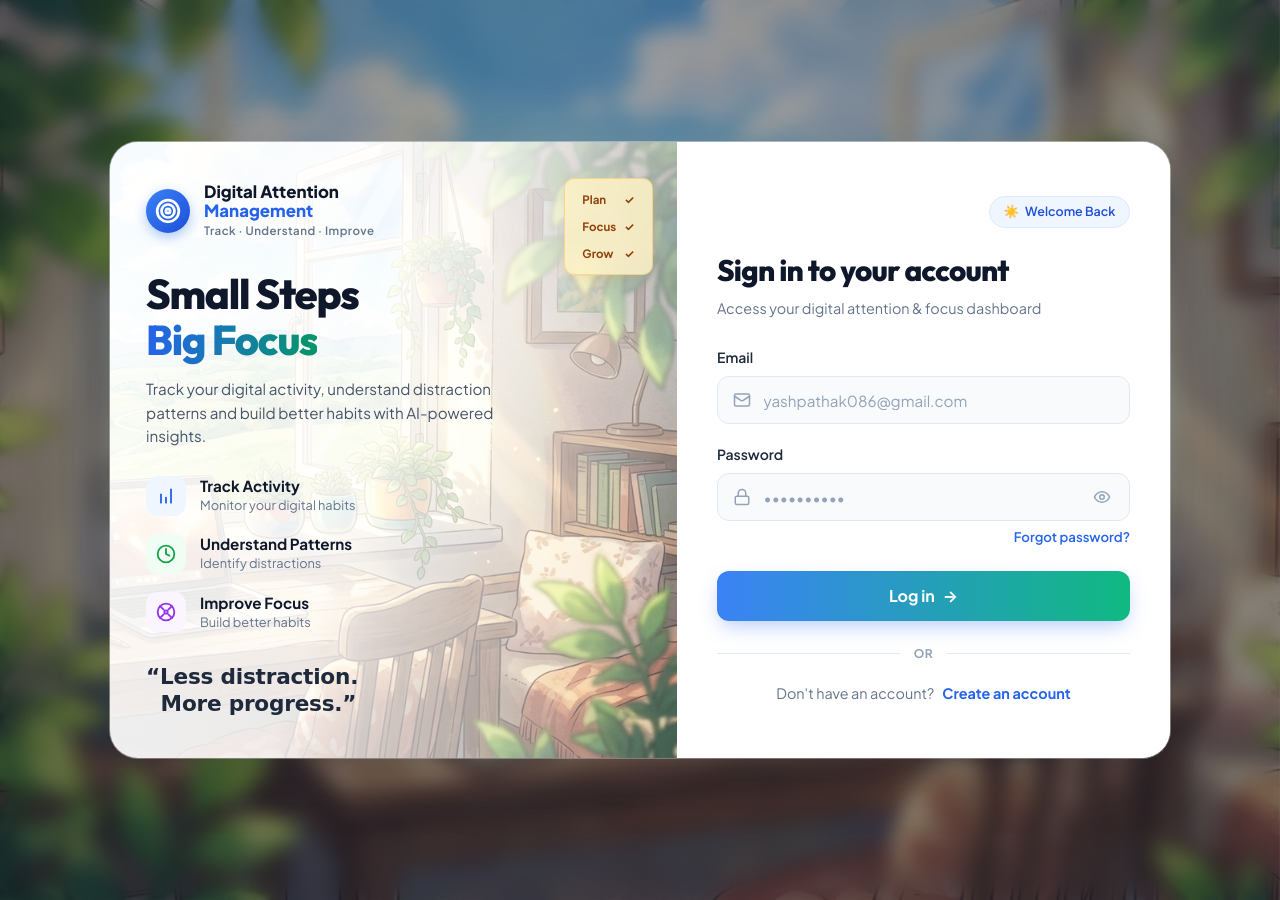
Test case: Auth Feature › login failure shows the generic message
Type "wrong@example.com" into the field labelled "Email" at (924, 400), box [717, 376, 1130, 424]
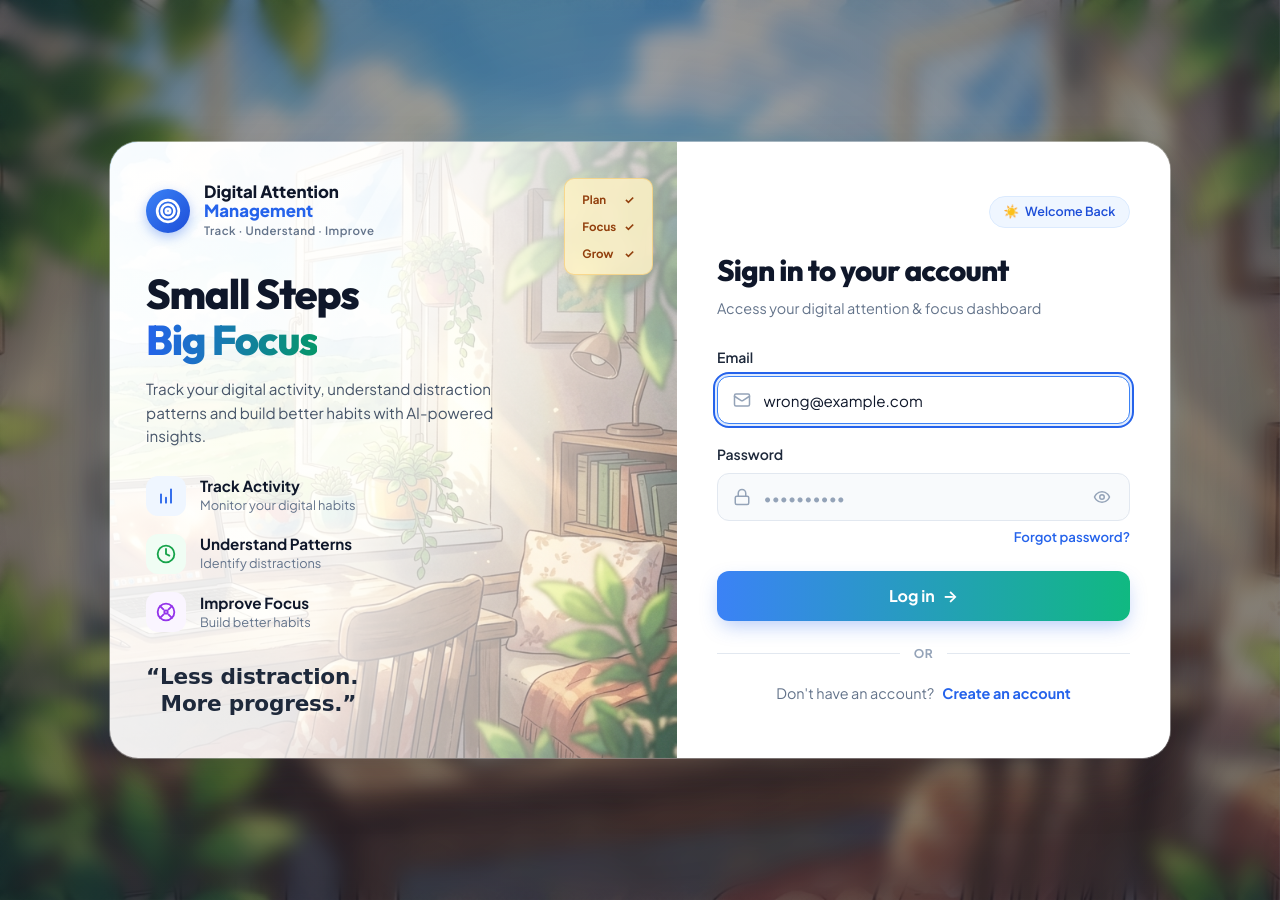
Type "WrongPassword123!" into the password field labelled "Password" at (924, 497), box [717, 473, 1130, 521]
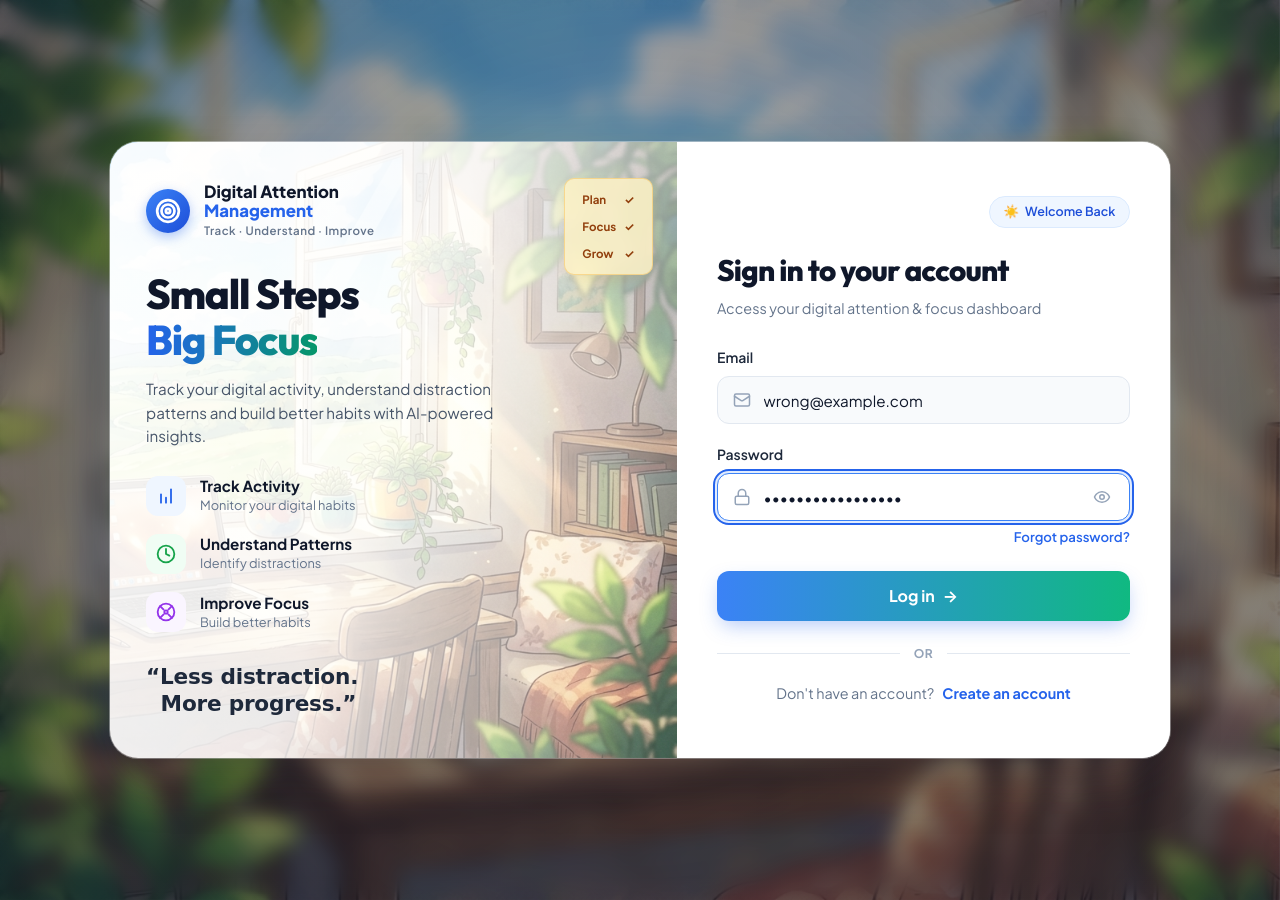
Click the button "Log in →" at (924, 596), box [717, 571, 1130, 621]
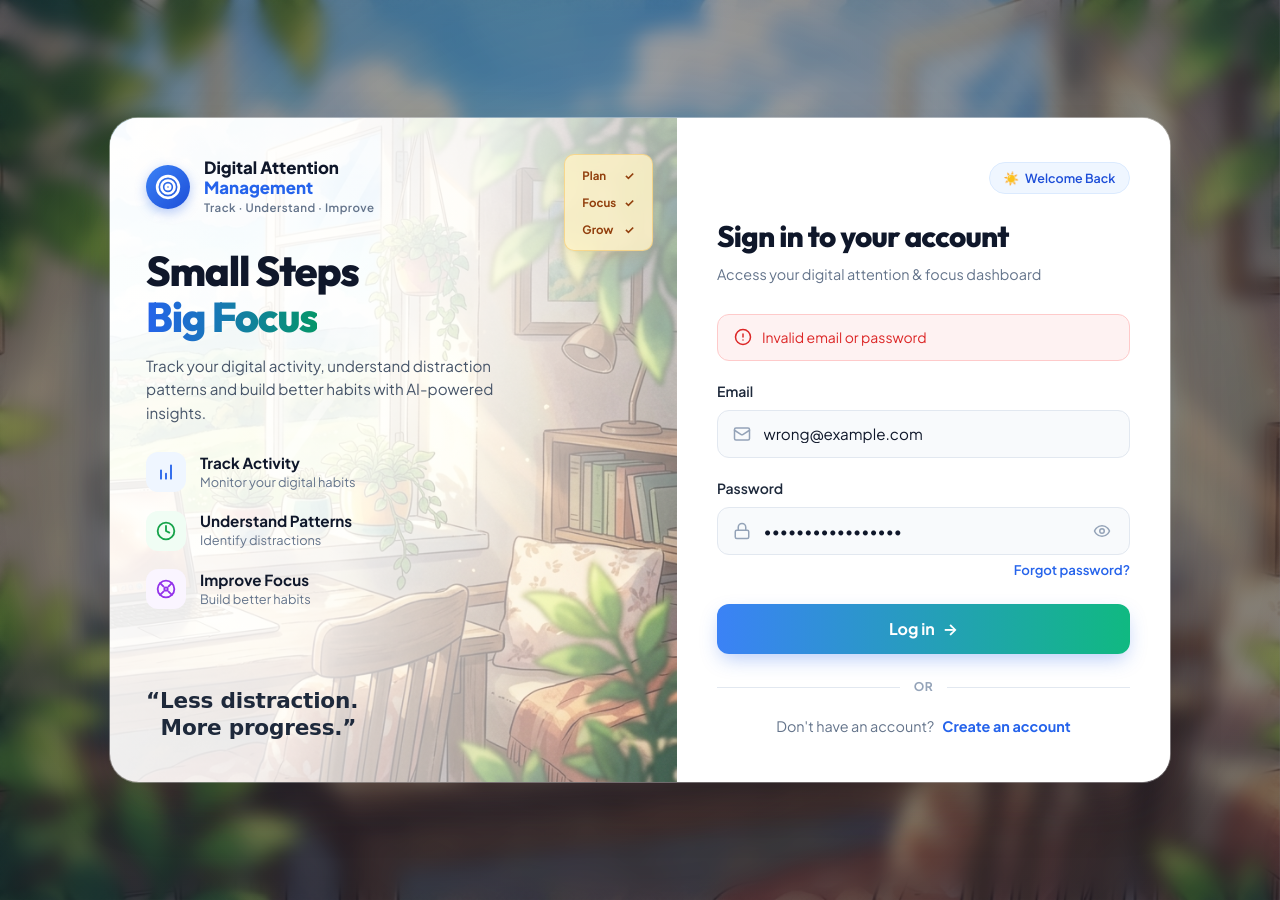
Expected: the message reads "Invalid email or password", [762, 328, 927, 346]
